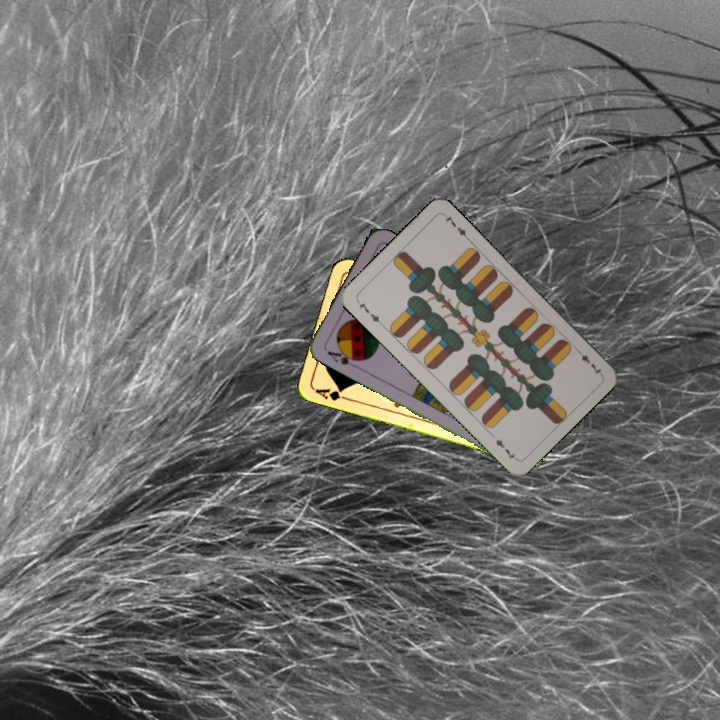E7: (572, 344, 604, 378), (353, 296, 385, 328)
GA: (311, 384, 351, 403)
SA: (323, 344, 363, 371)
